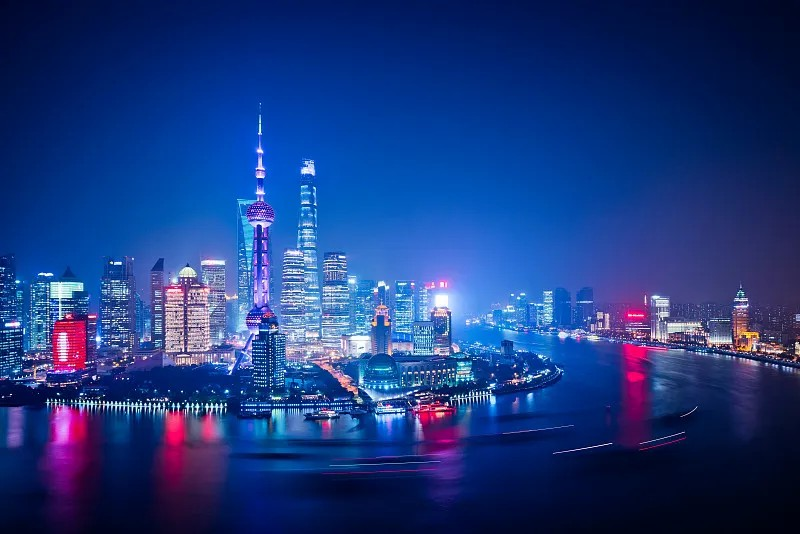Oriental: (233, 102, 274, 372)
